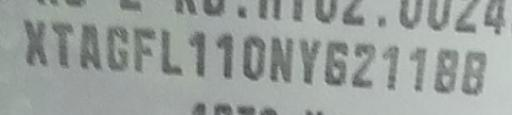letter: (182, 24, 218, 79), (18, 16, 52, 71), (235, 29, 267, 86), (292, 36, 326, 87), (348, 40, 382, 89), (459, 46, 493, 95), (48, 17, 80, 68), (101, 22, 133, 73), (431, 43, 463, 94), (76, 21, 104, 74), (157, 26, 185, 79), (270, 33, 298, 86), (213, 29, 241, 80), (378, 42, 406, 93), (322, 38, 350, 87), (403, 43, 431, 92), (132, 25, 158, 76)
